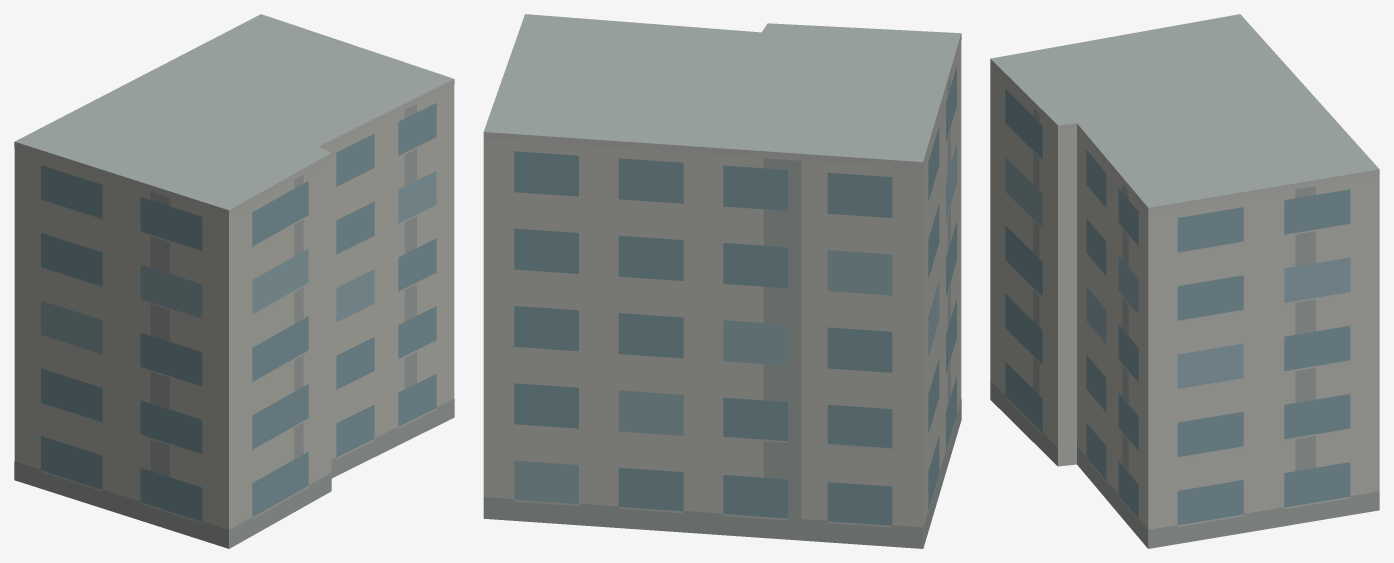
The model's file is survey-upis-32992293.glb.
3 renders of one model, left to right at view 1: azimuth 30°, elevation 25°; view 2: azimuth 150°, elevation 25°; view 3: azimuth 270°, elevation 25°, orthographic. The views are drawn at different scales.
Parts seen in each view (by area): view 1: survey-upis-32992293.tmp; view 2: survey-upis-32992293.tmp; view 3: survey-upis-32992293.tmp.
Boxes of the visible parts, x1=… form: survey-upis-32992293.tmp: x1=14, y1=14, x2=454, y2=548; survey-upis-32992293.tmp: x1=483, y1=14, x2=961, y2=548; survey-upis-32992293.tmp: x1=990, y1=14, x2=1379, y2=548.
Size of the model in its own units: 16.34 by 13.4 by 13.87.
